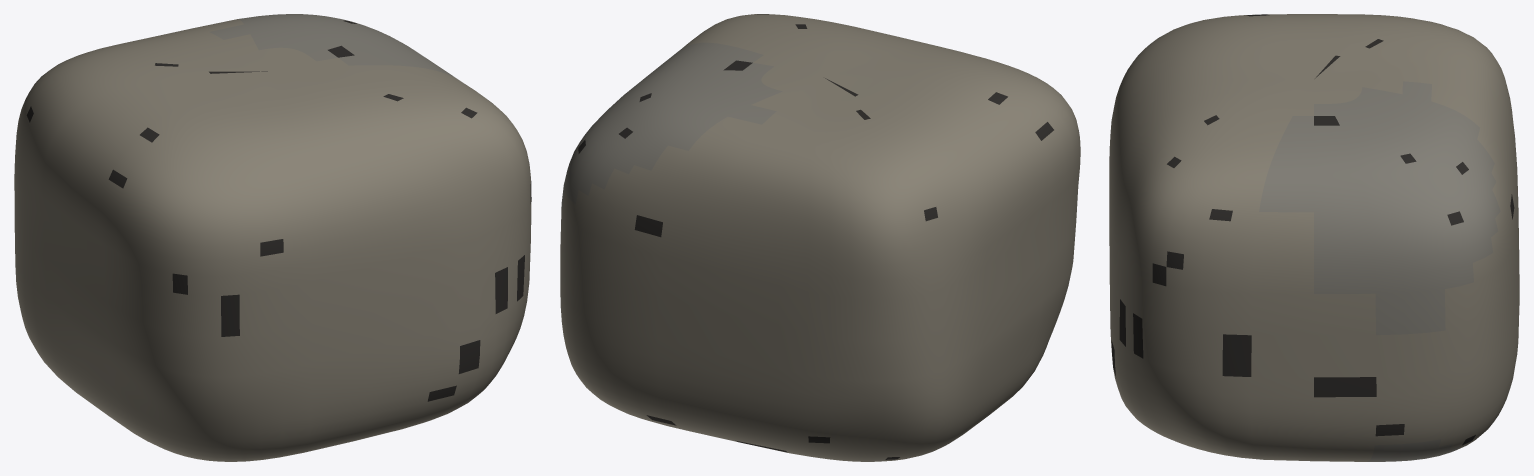
Rendered from Stone_06_Chunky.fbx.
3 renders of one model, left to right at view 1: azimuth 30°, elevation 25°; view 2: azimuth 150°, elevation 25°; view 3: azimuth 270°, elevation 25°, orthographic.
Parts seen in each view (by area): view 1: Stone_06_Chunky; view 2: Stone_06_Chunky; view 3: Stone_06_Chunky.
Part boxes in pixels (x1=…): Stone_06_Chunky: x1=14, y1=14, x2=531, y2=461; Stone_06_Chunky: x1=560, y1=14, x2=1080, y2=461; Stone_06_Chunky: x1=1109, y1=14, x2=1519, y2=461.
Bounding box in the file's own units: 0.0322 × 0.025 × 0.0287.
